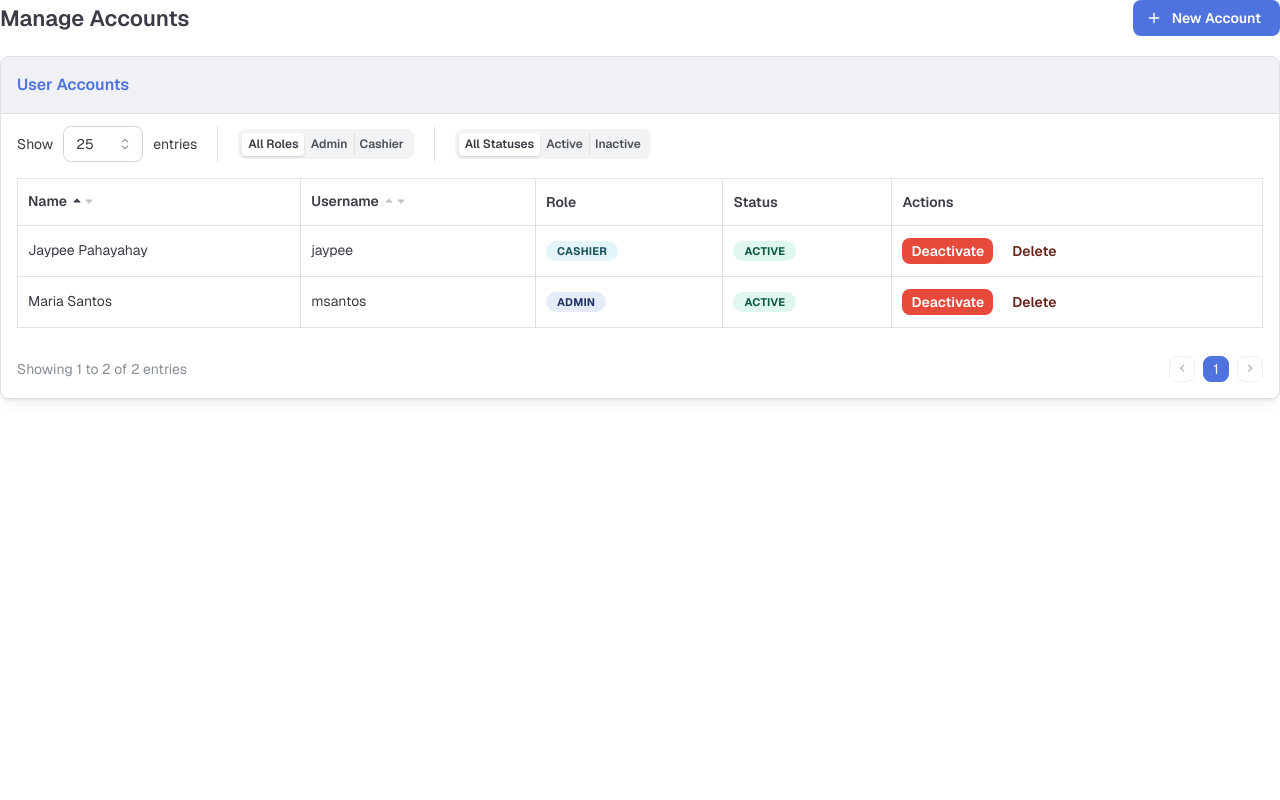
Test: ManageAccountsPage › warns about the series receipt before deactivating a cashier
Expected: the text "Jaypee Pahayahay" is shown, [18, 225, 301, 276]
What coordinates should you click on to do the following:
click the button "Deactivate" in the row of "Jaypee Pahayahay"
I would click on:
 (948, 251)
Its box is [902, 238, 993, 264].
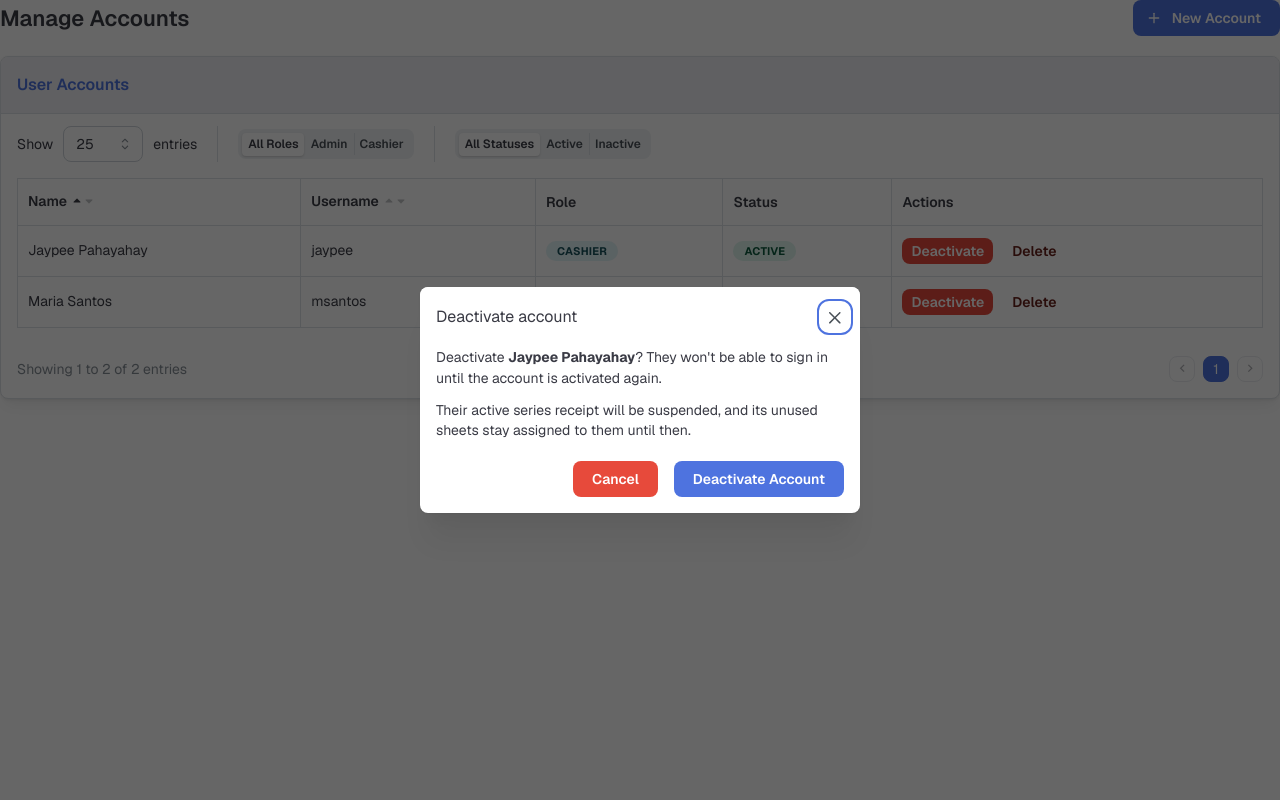
Expected: the button "Deactivate Account" is shown
Expected: the text "suspended" is shown, [436, 401, 818, 439]
What coordinates should you click on to do the following:
click the button "Deactivate Account"
I would click on:
 (759, 479)
Its box is [674, 461, 844, 497].
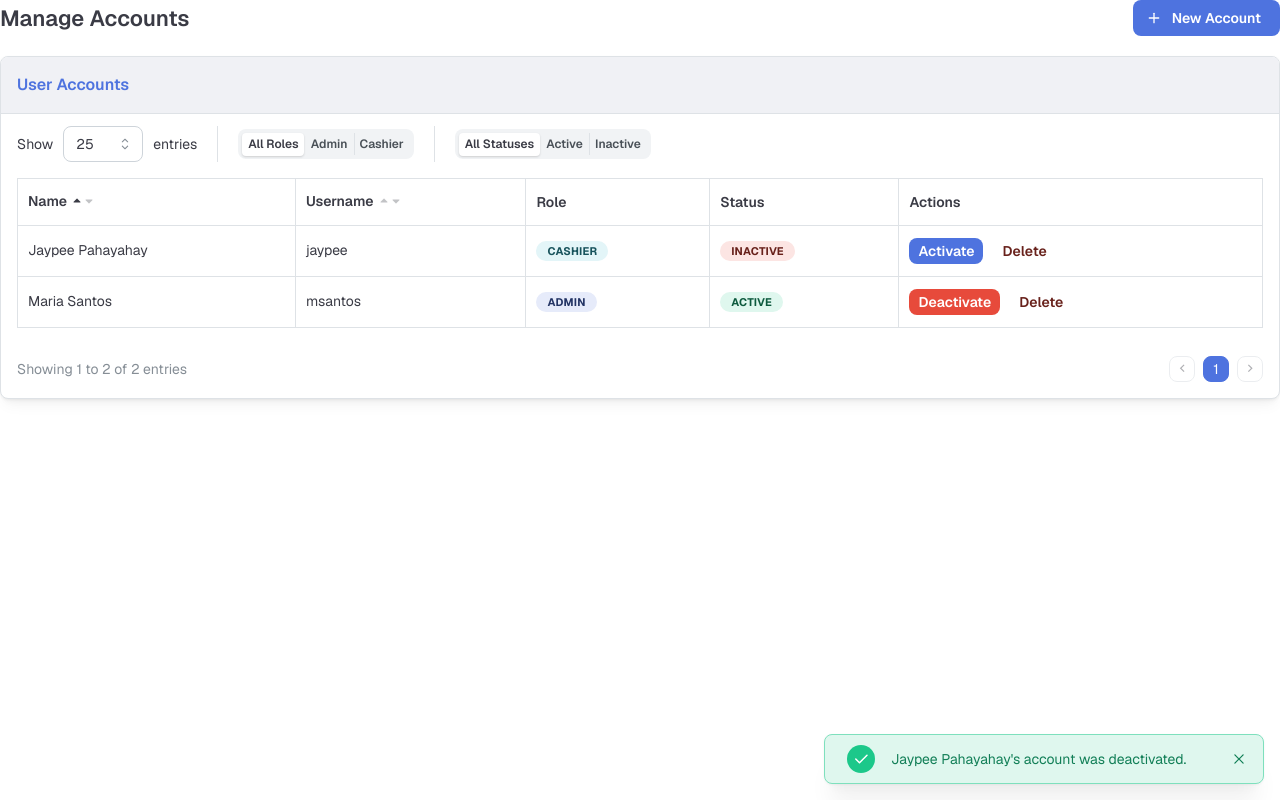
Expected: the text "Inactive" below "Actions" is shown, [731, 244, 784, 258]
